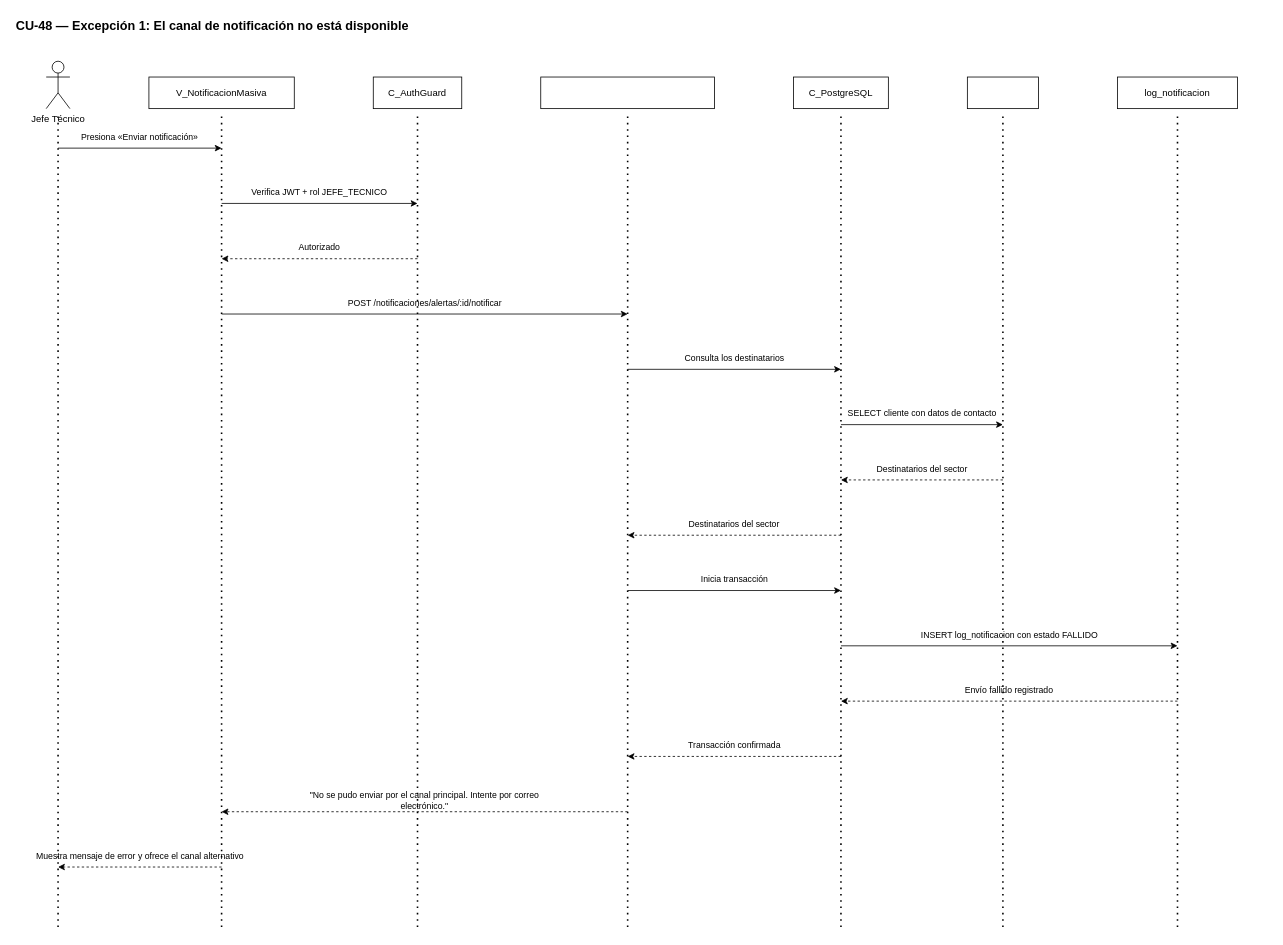
The diagram is 1283 pixels wide and 945 high, and some of its shapes have lost their labels. The shapes that lost their labels are listed below. From the top down, each one's centre as x and y in pixels, then its label:
At point 627,92: "C_NotificacionesController".
At point 1002,92: "cliente".
